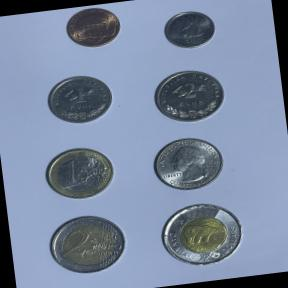1 Euro: (38, 142, 120, 206)
2 Euro: (42, 206, 134, 283)
Canda-10cent-: (158, 5, 222, 57)
Canda-2Dollar-: (153, 192, 254, 276)
Croatia-2Kune-: (148, 62, 232, 130)
US-1cent-: (58, 1, 128, 58)
US-25cent-: (144, 128, 234, 199)
